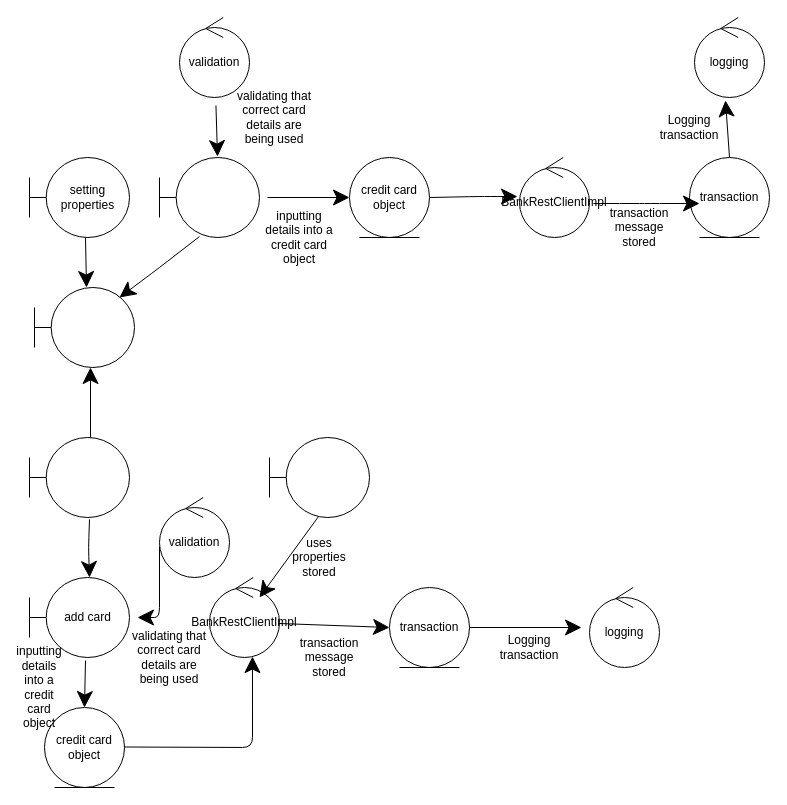
This 787x805 diagram has some shape labels left out. Each missing label, with the centre of its shape:
"adminlogin.jsp" goes at [84,327].
"home.jsp" goes at [79,477].
"properties" goes at [319,477].
"refunds" goes at [209,197].
